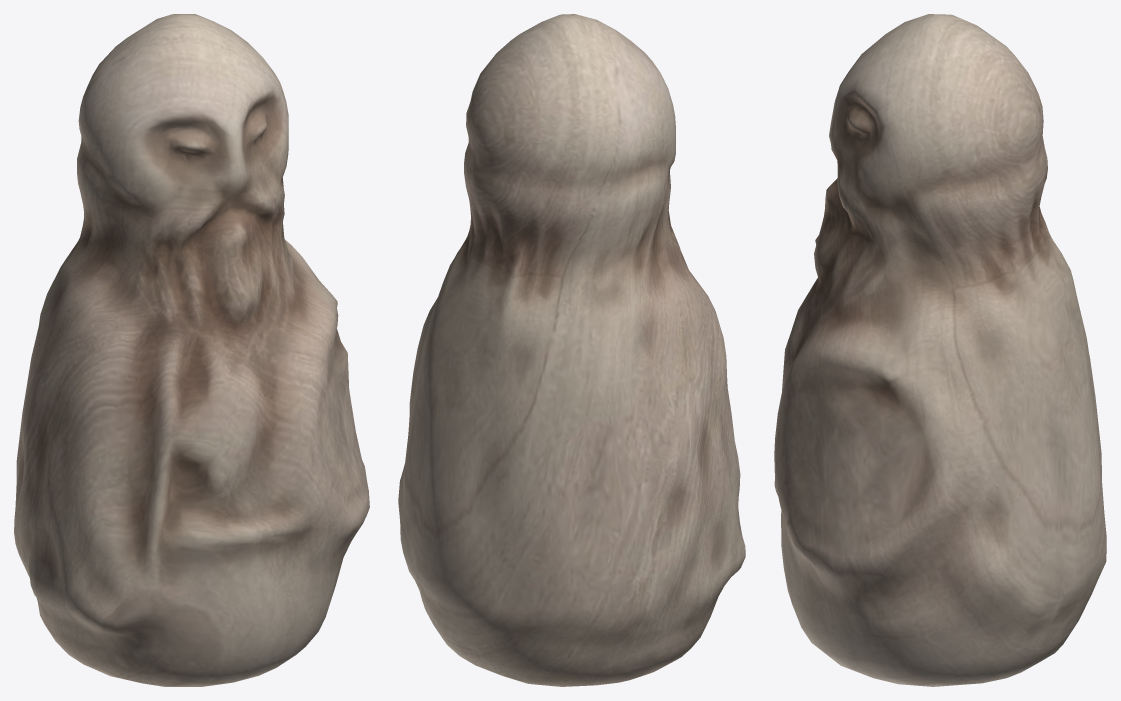
The model's file is Sweden_Pawn.fbx.
The picture shows the model from 3 angles, left to right: view 1: azimuth 30°, elevation 25°; view 2: azimuth 150°, elevation 25°; view 3: azimuth 270°, elevation 25°; orthographic projection.
Parts seen in each view (by area): view 1: Sweden_Pawn; view 2: Sweden_Pawn; view 3: Sweden_Pawn.
Part boxes in pixels (box(x1,y1,x2,y2)): Sweden_Pawn: box(14, 14, 369, 686); Sweden_Pawn: box(398, 14, 745, 686); Sweden_Pawn: box(774, 14, 1106, 686).
Size of the model in its own units: 6.25 by 12.49 by 5.98.
1 material, 1 textured.
